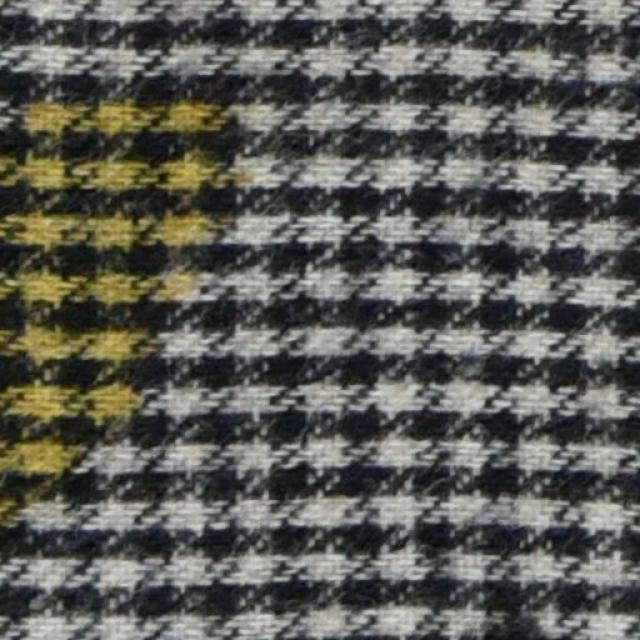Stain: (0, 72, 258, 545)
